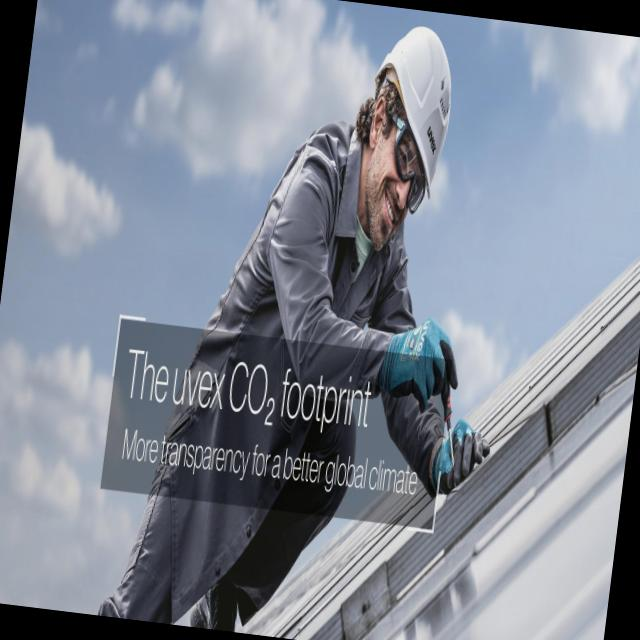goggles: (377, 99, 439, 222)
helmet: (365, 34, 458, 185)
no-vest: (143, 107, 404, 606)
